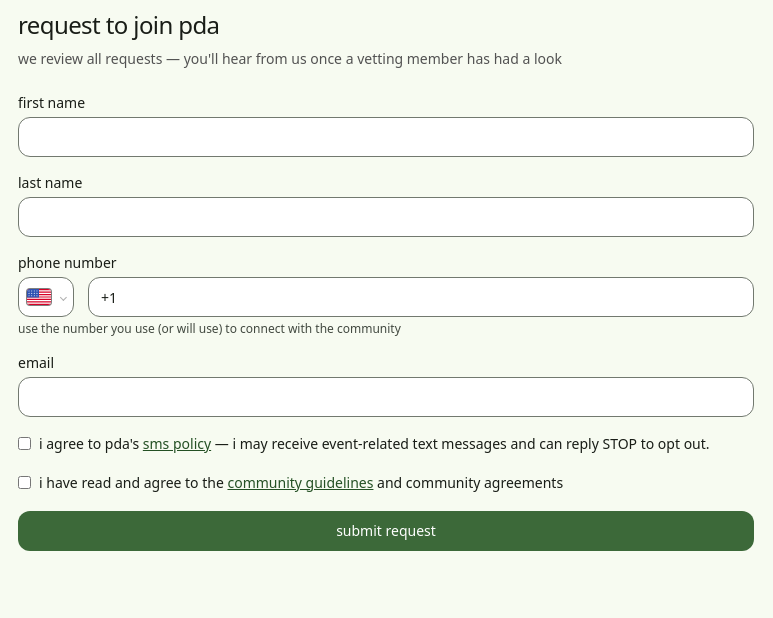
Test: JoinScreen › blocks submit when name + phone are filled but sms consent is unchecked
The image size is (773, 618).
In the field labelled "first name": (386, 137) [18,117,754,157], type "Jane"
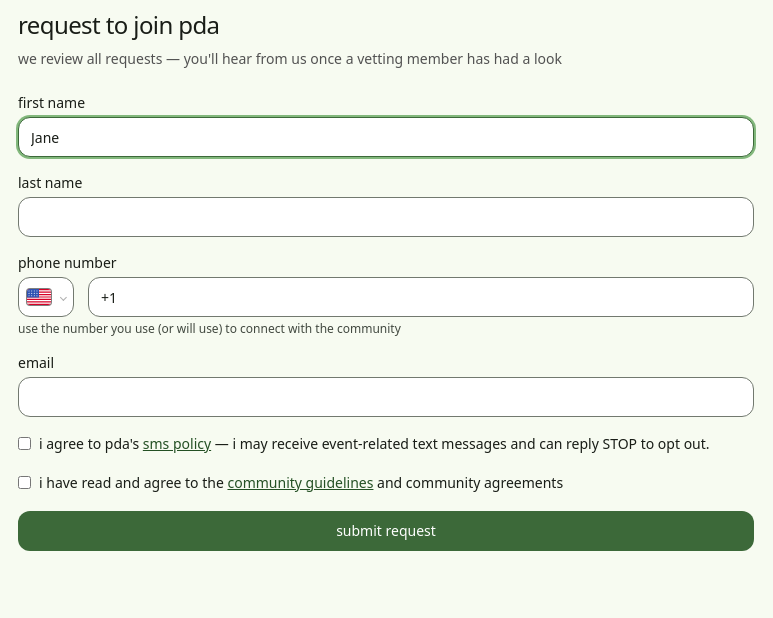
In the field labelled "last name": (386, 217) [18,197,754,237], type "Smith"
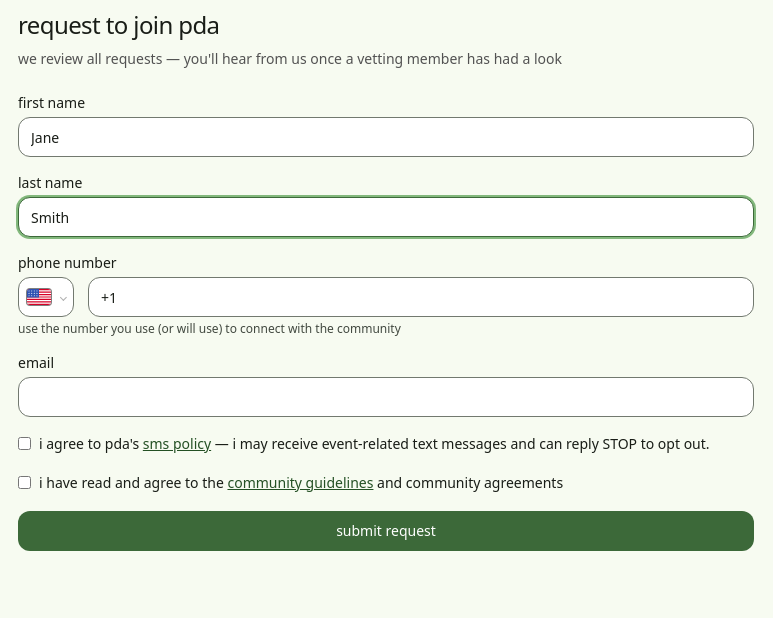
Replace the text in the field labelled "phone number" with "(555) 123-4567": (421, 297) [88,277,754,317]
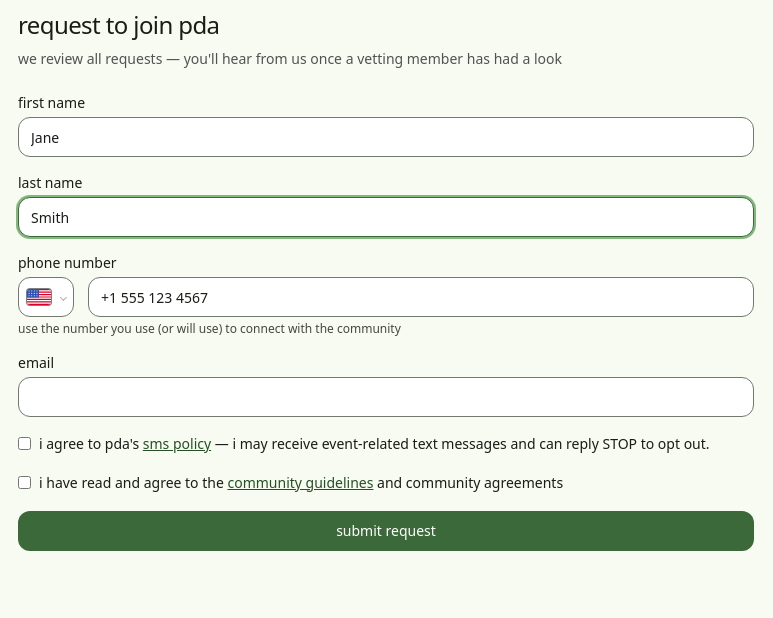
In the field labelled "email": (386, 397) [18,377,754,417], type "jane@example.com"
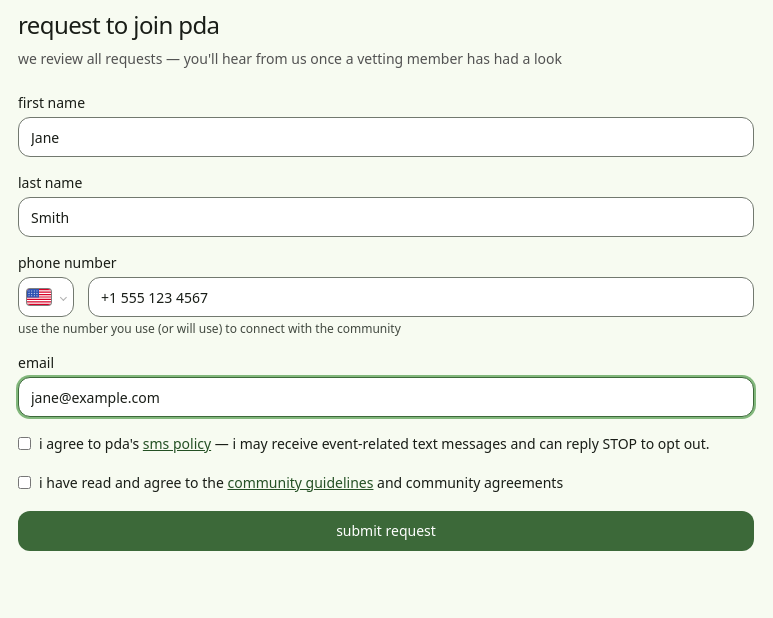
Click the button "submit request": click(386, 530) [18,510,754,550]
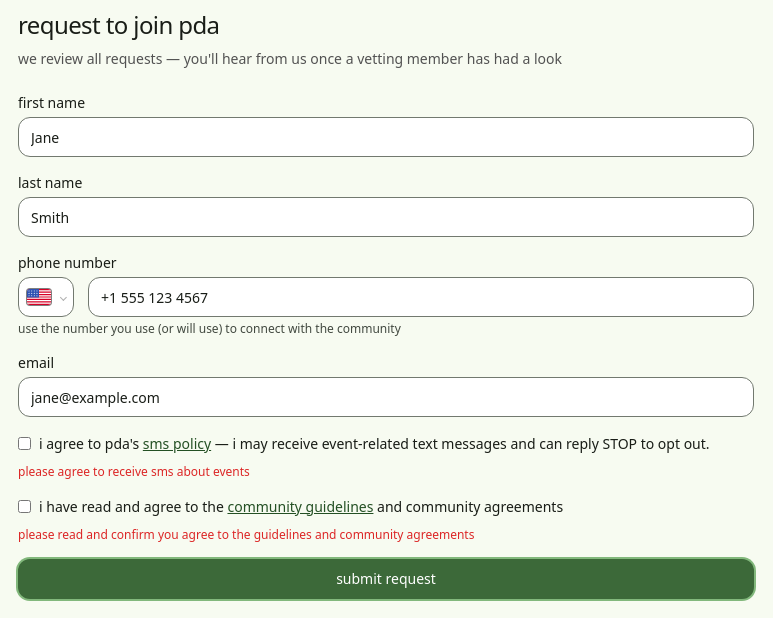
expect the text "please agree to receive sms about events" is shown: met, box [18,463,250,480]
